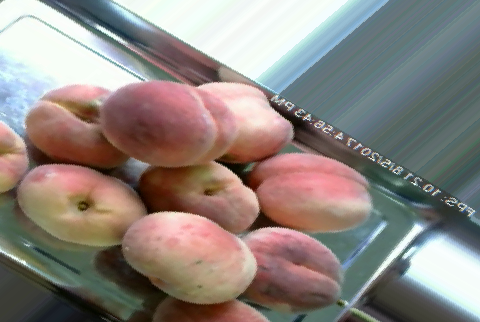Peach: (122, 212, 254, 302), (102, 80, 231, 165), (16, 164, 144, 246), (250, 151, 372, 231), (26, 83, 133, 169), (237, 226, 343, 308), (137, 160, 261, 230), (194, 81, 295, 165)
